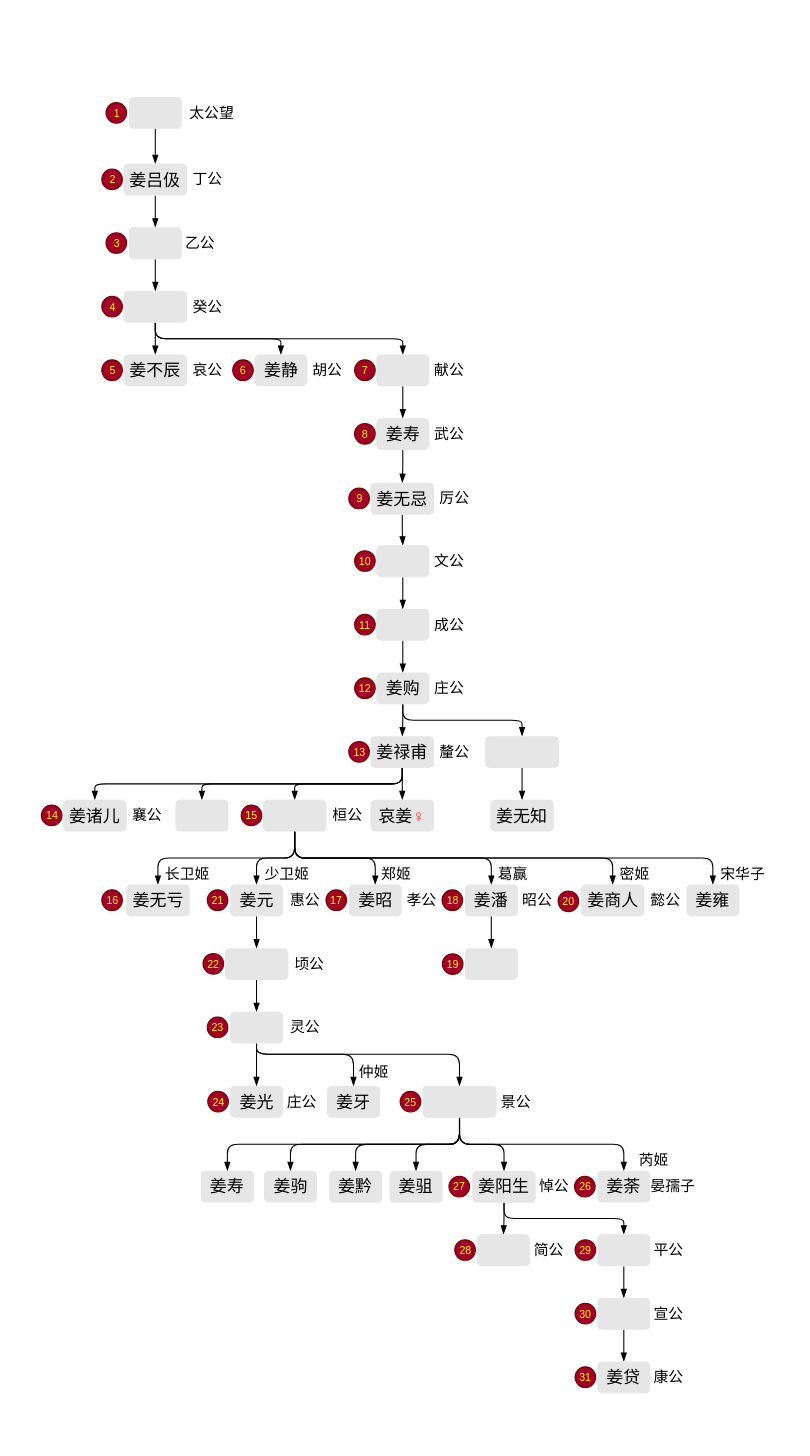
This 810x1456 diagram has some shape labels left out. Here are the shapes that lost their labels. From the top down, the centre of each, then its label:
the point at 154,112: 姜尚
the point at 154,243: 姜得
the point at 155,306: 姜慈母
the point at 402,370: 姜山
the point at 402,561: 姜赤
the point at 402,624: 姜脱
the point at 521,751: 姜夷仲年
the point at 201,815: 姜纠
the point at 294,815: 姜小白
the point at 256,963: 姜无野
the point at 490,963: 姜舍
the point at 255,1027: 姜环
the point at 459,1101: 姜杵臼
the point at 502,1250: 姜壬
the point at 623,1250: 姜骜
the point at 623,1313: 姜积
